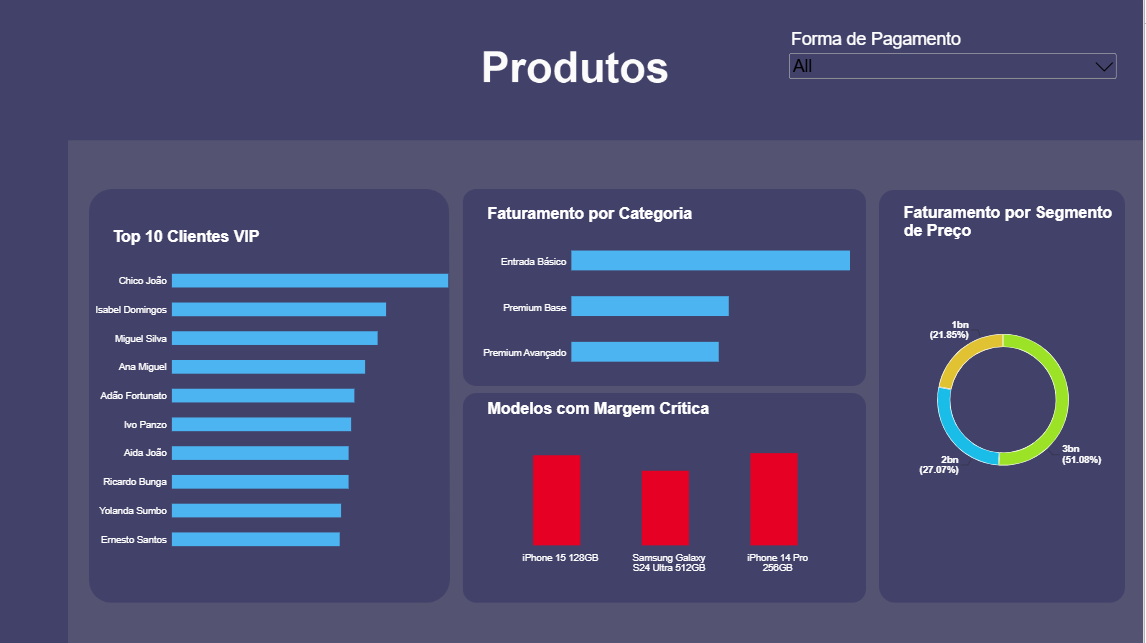

What the dashboard file says about the page in this screenshot:
{"tool":"powerbi","page":{"name":"Page 2","canvas":[1920,1080],"ordinal":1},"visuals":[{"type":"donutChart","fields":{"Category":["Vendas.Canal_Venda"],"Y":["Metricas.Faturamento Total"]},"box":[1491.4,420,386.2,496.6],"z":4000},{"type":"barChart","fields":{"Category":["Vendas.Subcategoria_Comercial"],"Y":["Metricas.Unidades Vendidas"]},"box":[804.5,380.9,633.6,259.8],"z":5000},{"type":"columnChart","fields":{"Category":["Vendas.Modelo_Equipamento"],"Y":["Metricas.Lucro Total"]},"box":[792,715.5,634.3,247.1],"z":7000},{"type":"textbox","box":[824,343.5,479.7,61],"z":8000},{"type":"textbox","box":[824,669.2,530.2,92.4],"z":9000},{"type":"textbox","box":[196.2,380.2,532,48.8],"z":12000},{"type":"textbox","box":[1519.9,339.9,359.2,80.6],"z":14000},{"type":"textbox","box":[0,883,525,160],"z":15000},{"type":"barChart","fields":{"Category":["Vendas.Nome_Cliente"],"Y":["Metricas.Faturamento Total","Metricas.Total Compras por Cliente"]},"box":[157.7,431,609.7,502.9],"z":17000},{"type":"slicer","fields":{"Values":["Vendas.Forma_Pagamento"]},"box":[1322.4,47.6,556.7,126.2],"z":17001}]}

Visuals, with their boxes in screenshot pixels (x1, y1, x2, y2), scaled from the page's 1920x1080 canvas onto the 1146x643 screenshot:
donutChart - Vendas.Canal_Venda x Metricas.Faturamento Total: rect(890, 250, 1121, 546)
barChart - Vendas.Subcategoria_Comercial x Metricas.Unidades Vendidas: rect(480, 227, 858, 381)
columnChart - Vendas.Modelo_Equipamento x Metricas.Lucro Total: rect(473, 426, 851, 573)
textbox: rect(492, 205, 778, 241)
textbox: rect(492, 398, 808, 453)
textbox: rect(117, 226, 435, 255)
textbox: rect(907, 202, 1122, 250)
textbox: rect(0, 526, 313, 621)
barChart - Vendas.Nome_Cliente x Metricas.Faturamento Total: rect(94, 257, 458, 556)
slicer - Vendas.Forma_Pagamento: rect(789, 28, 1122, 103)
